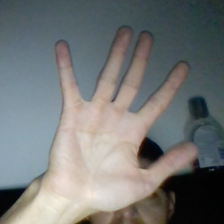left: (34, 18, 204, 213)
